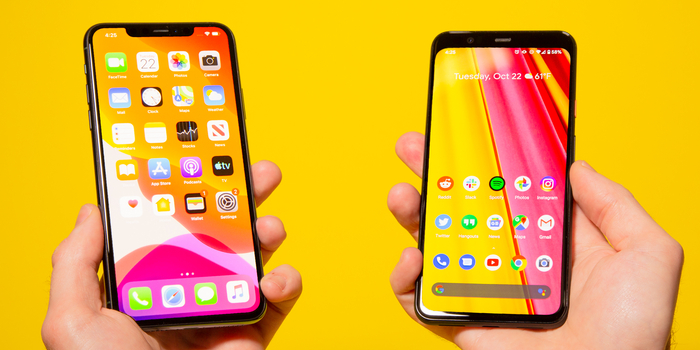phones: (77, 14, 271, 339), (410, 25, 586, 332)
